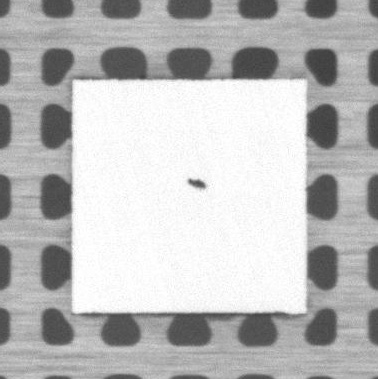DIE_INK: (187, 178, 209, 191)
